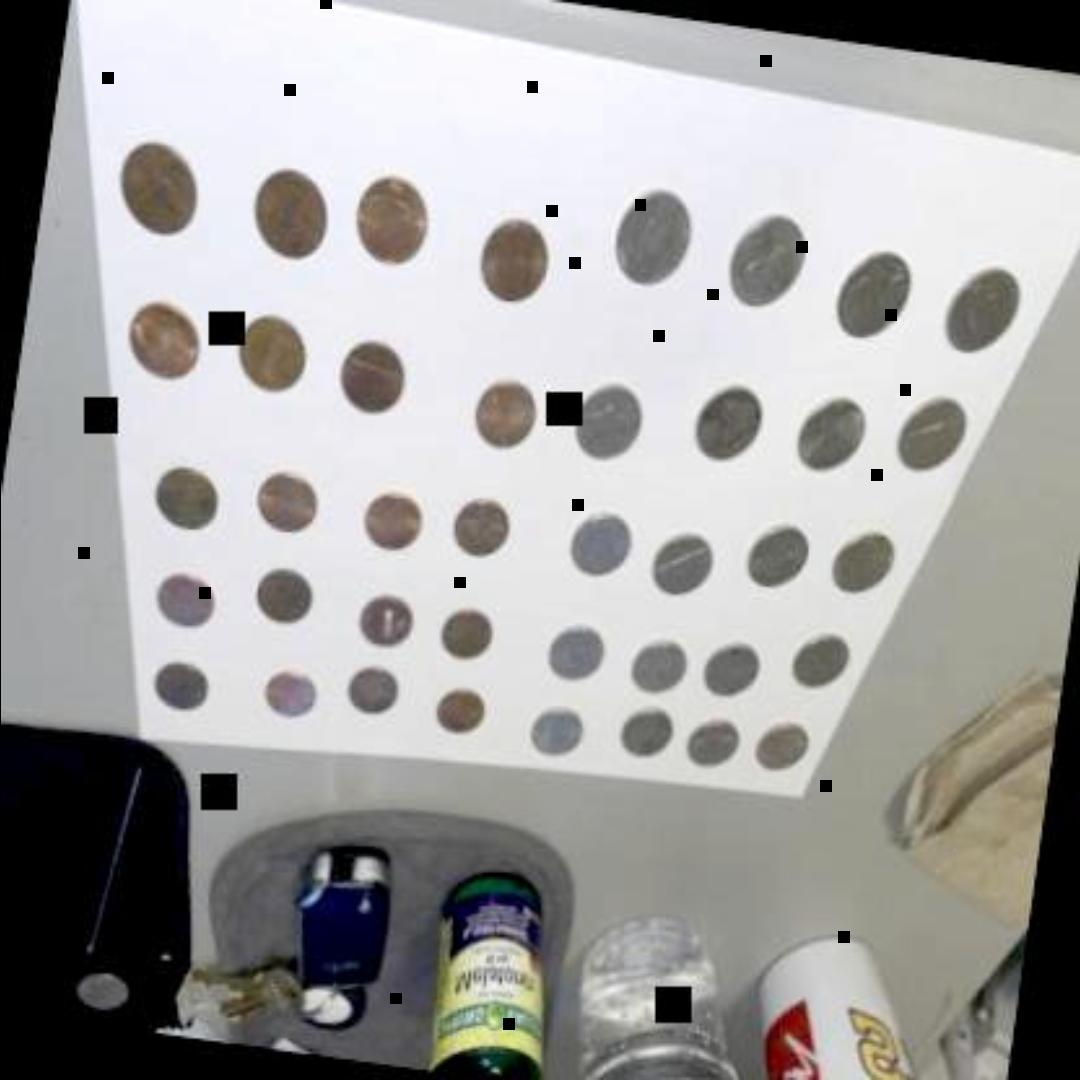Nickel: (614, 189, 697, 289), (726, 215, 812, 309), (832, 248, 918, 340), (942, 266, 1024, 357), (794, 393, 870, 481), (566, 501, 644, 581), (896, 395, 970, 476), (573, 384, 645, 462), (742, 516, 816, 590), (693, 388, 765, 462), (700, 636, 764, 706), (649, 533, 715, 598), (831, 534, 899, 596), (526, 695, 590, 759), (546, 617, 610, 681), (618, 703, 682, 767), (631, 634, 695, 696), (750, 722, 814, 774), (790, 636, 850, 688), (686, 722, 740, 770)
Penny: (113, 128, 209, 238), (248, 154, 338, 264), (351, 162, 441, 272), (117, 282, 213, 385), (233, 302, 323, 404), (472, 218, 556, 312), (334, 330, 416, 422), (146, 460, 226, 532), (144, 562, 224, 630), (254, 465, 328, 535), (473, 376, 541, 448), (146, 653, 222, 715), (362, 482, 429, 552), (438, 599, 504, 663), (356, 587, 420, 651), (431, 677, 495, 741), (264, 661, 326, 723), (256, 562, 320, 622), (450, 499, 514, 559), (347, 658, 411, 716)
